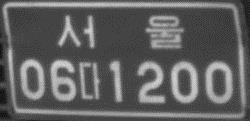0: (204, 59, 234, 105), (170, 60, 199, 104), (19, 59, 45, 100)
1: (107, 59, 125, 103)
2: (136, 60, 165, 104)
6: (50, 59, 77, 103)
다: (77, 60, 102, 102)
서울_D: (56, 12, 184, 50)
